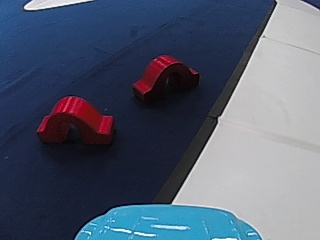bridge: (31, 91, 119, 147), (128, 52, 202, 103)
